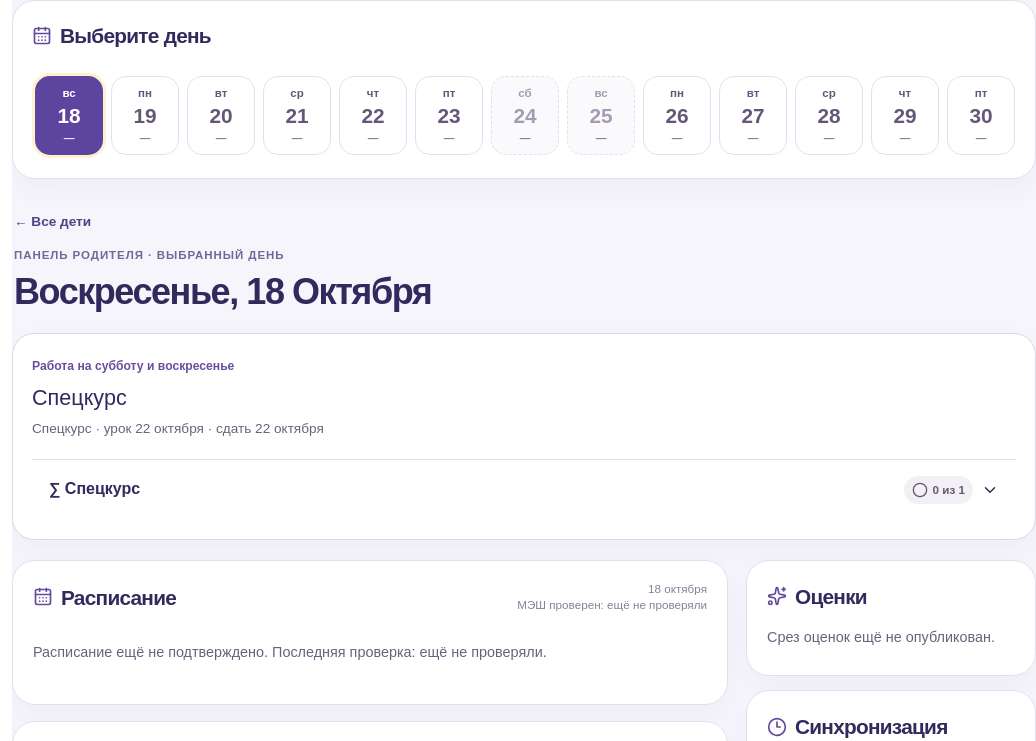
Test: shared calendar with the actual weekend task composition › keeps parent actions throughout the whole composition on the same URL
Click the button "∑ Спецкурс 0 из 1": coordinates (95, 489) [32, 460, 1016, 520]
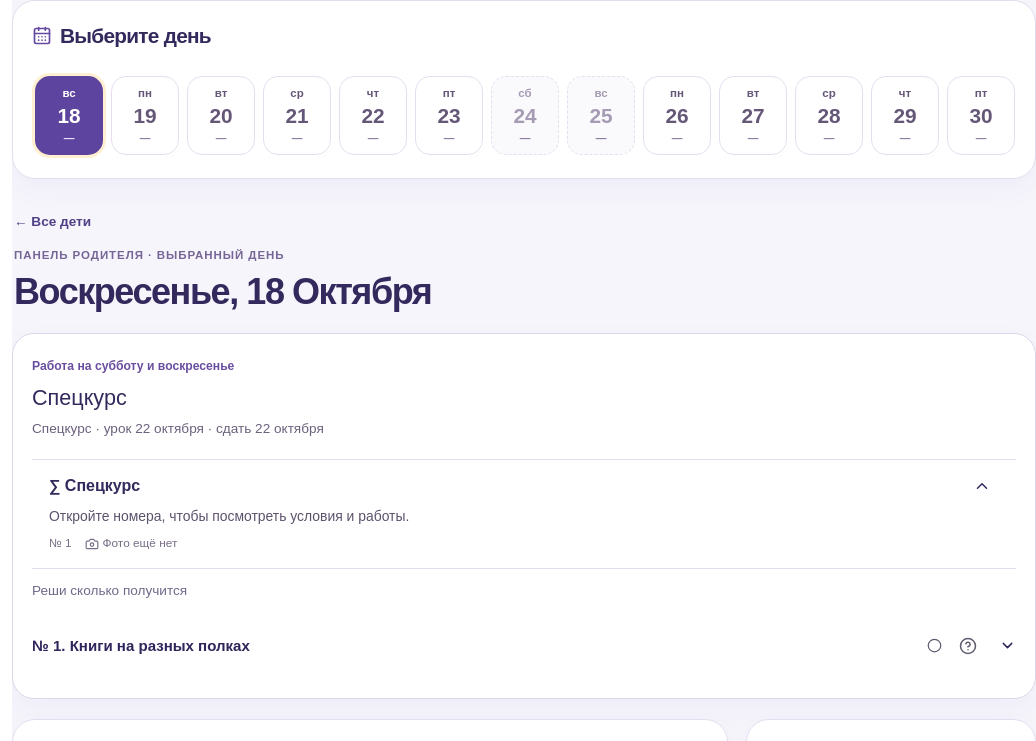
Now the element showing "№ 1. Книги на разных полках" is shown, box [32, 613, 1016, 679]
